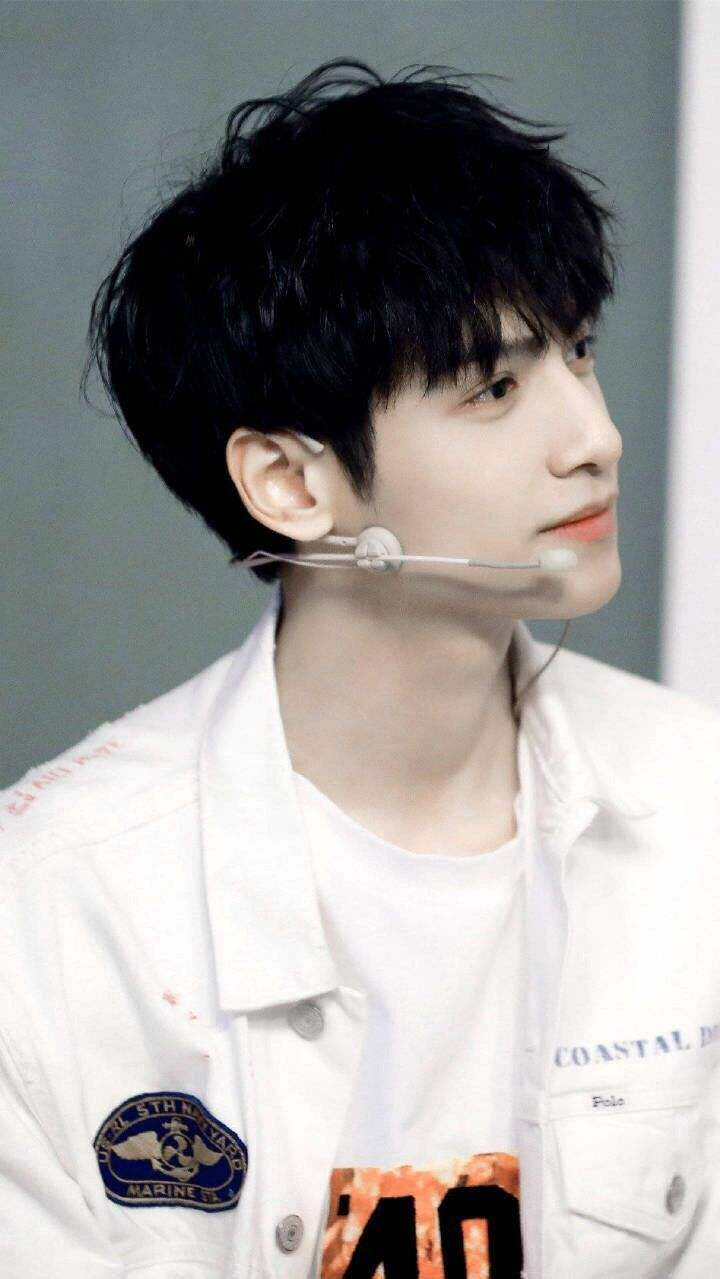person: (129, 102, 720, 1186)
